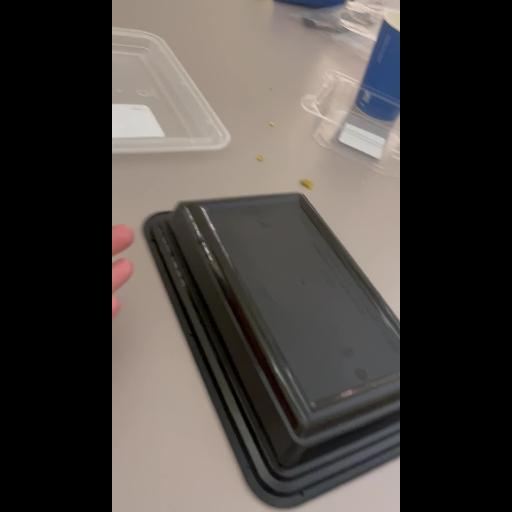rigid_plastic_container: (130, 184, 400, 512)
